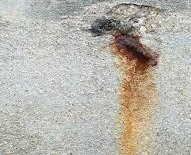Corrosion: (108, 33, 158, 155)
Exposed reinforcement: (123, 41, 156, 61)
Spalling: (84, 2, 168, 38)
